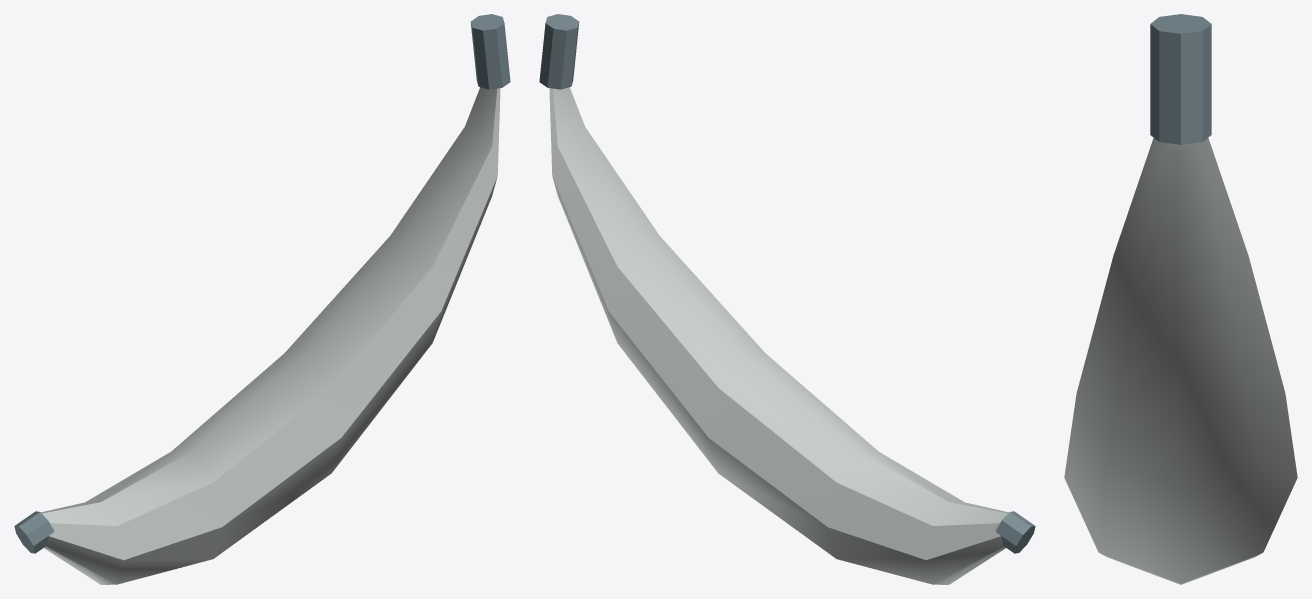
The model's file is banana.glb.
The picture shows the model from 3 angles, left to right: view 1: azimuth 30°, elevation 25°; view 2: azimuth 150°, elevation 25°; view 3: azimuth 270°, elevation 25°; orthographic projection. The views are drawn at different scales.
Visible parts, largest first — view 1: curved_peel, stem, dark_tip; view 2: curved_peel, stem, dark_tip; view 3: curved_peel, stem.
Boxes of the visible parts, bbox=[...] form: curved_peel: bbox=[41, 87, 500, 584]; stem: bbox=[470, 14, 510, 89]; dark_tip: bbox=[14, 511, 54, 553]; curved_peel: bbox=[549, 87, 1008, 584]; stem: bbox=[539, 14, 579, 89]; dark_tip: bbox=[995, 511, 1035, 553]; curved_peel: bbox=[1064, 138, 1297, 584]; stem: bbox=[1150, 14, 1211, 144].
Size of the model in its own units: 0.1609 by 0.1475 by 0.038.
